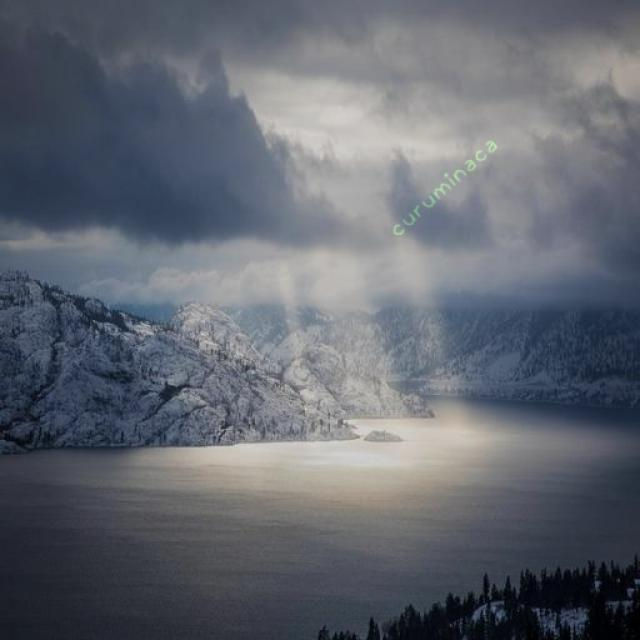watermark: (391, 129, 499, 242)
